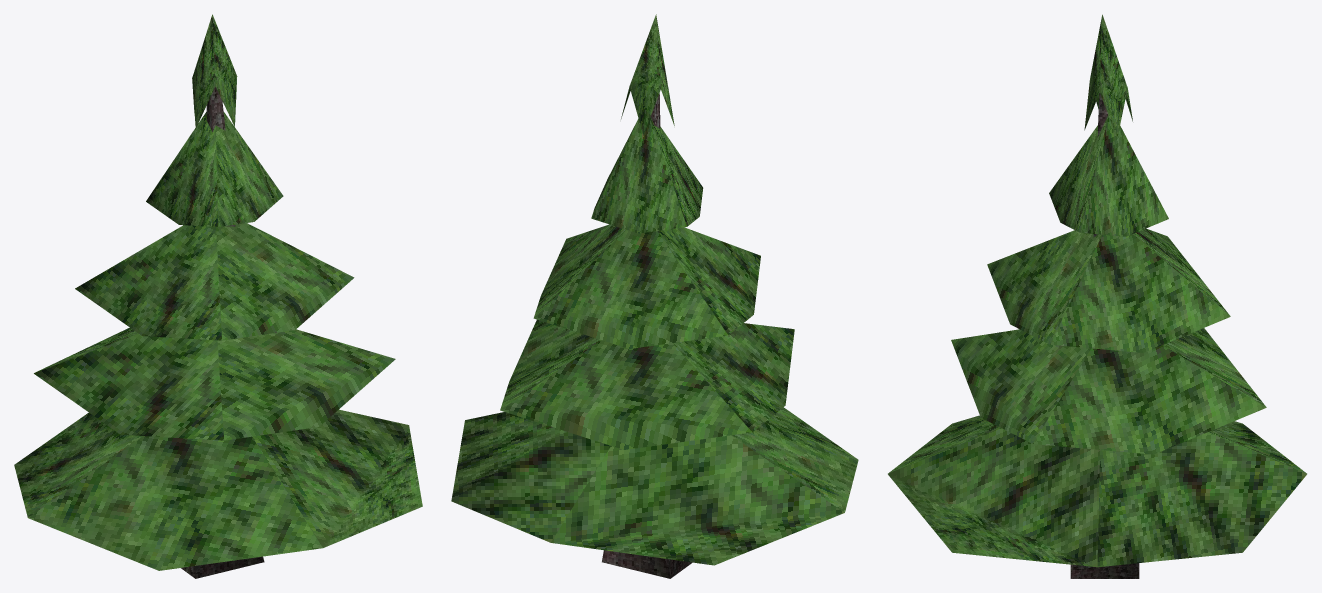
Rendered from pinetree_v1_4.glb.
The picture shows the model from 3 angles, left to right: view 1: azimuth 30°, elevation 25°; view 2: azimuth 150°, elevation 25°; view 3: azimuth 270°, elevation 25°; orthographic projection.
Parts seen in each view (by area): view 1: PineTree.002; view 2: PineTree.002; view 3: PineTree.002.
Part boxes in pixels (bbox=[...]): PineTree.002: bbox=[14, 14, 422, 578]; PineTree.002: bbox=[451, 14, 858, 578]; PineTree.002: bbox=[888, 14, 1306, 578].
Size of the model in its own units: 6.67 by 9.12 by 6.35.
Materials: 1 (1 with a texture image).
